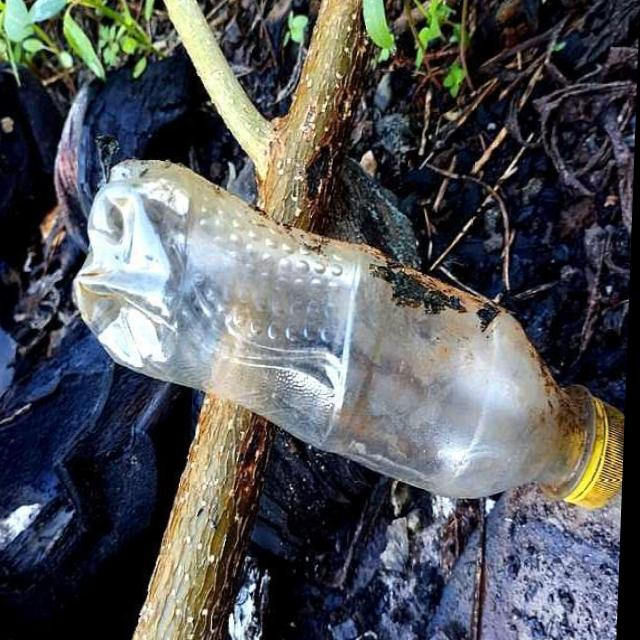Non-biodegradable: (69, 161, 636, 512)
